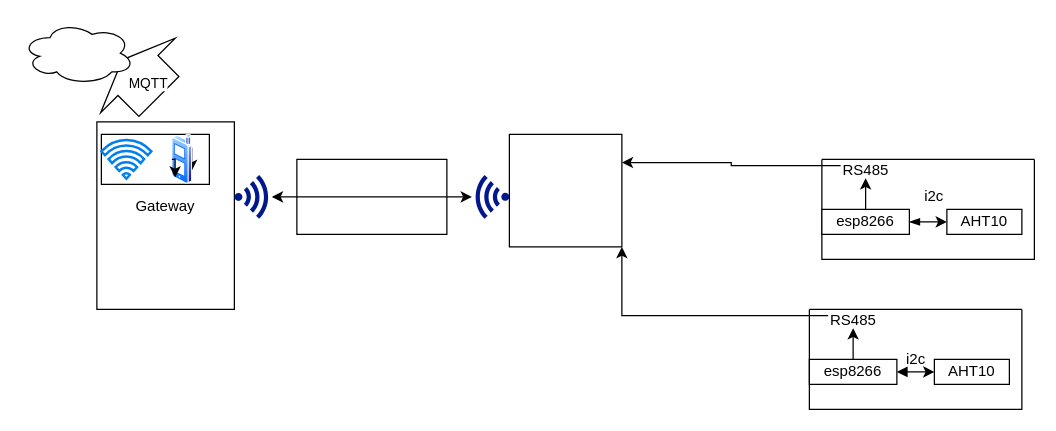
Image size: 1056x431. Some labels were removed from this diagram. Here are the shapes that lost their labels. From the top down, the centre of each, then its label:
At pixel 371 196: "LORA".
At pixel 565 190: "Endpoint ESP32".
